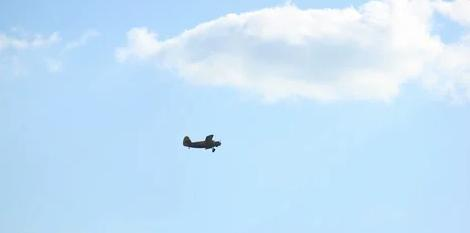aircraft: (182, 134, 222, 153)
